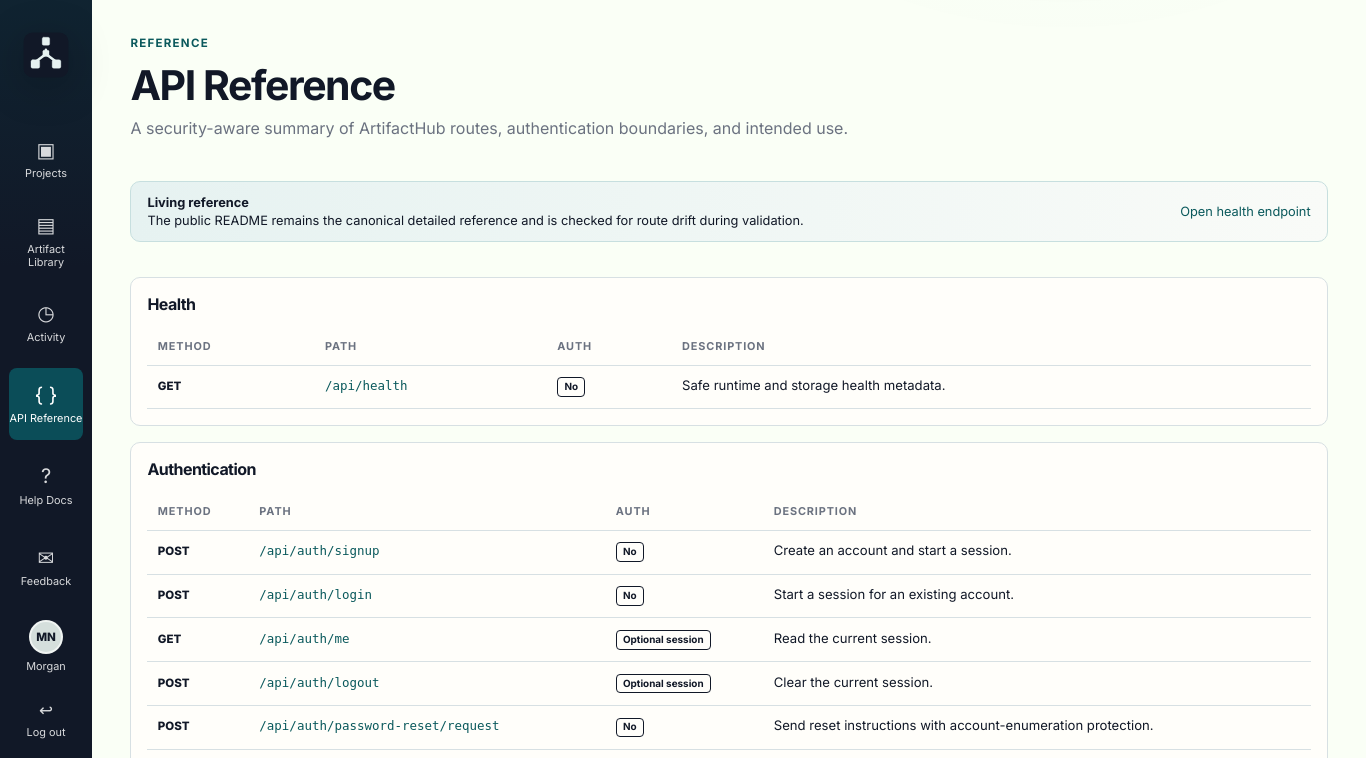
Test: React application shell › shows reference, help, and feedback rail destinations
The image size is (1366, 758).
Expected: the heading "API Reference" is shown, [130, 60, 395, 110]
Expected: the link "{ } API Reference" is shown, [9, 368, 83, 440]
Step 1. Click the link "? Help Docs" → x=46, y=486, box [19, 464, 72, 507]
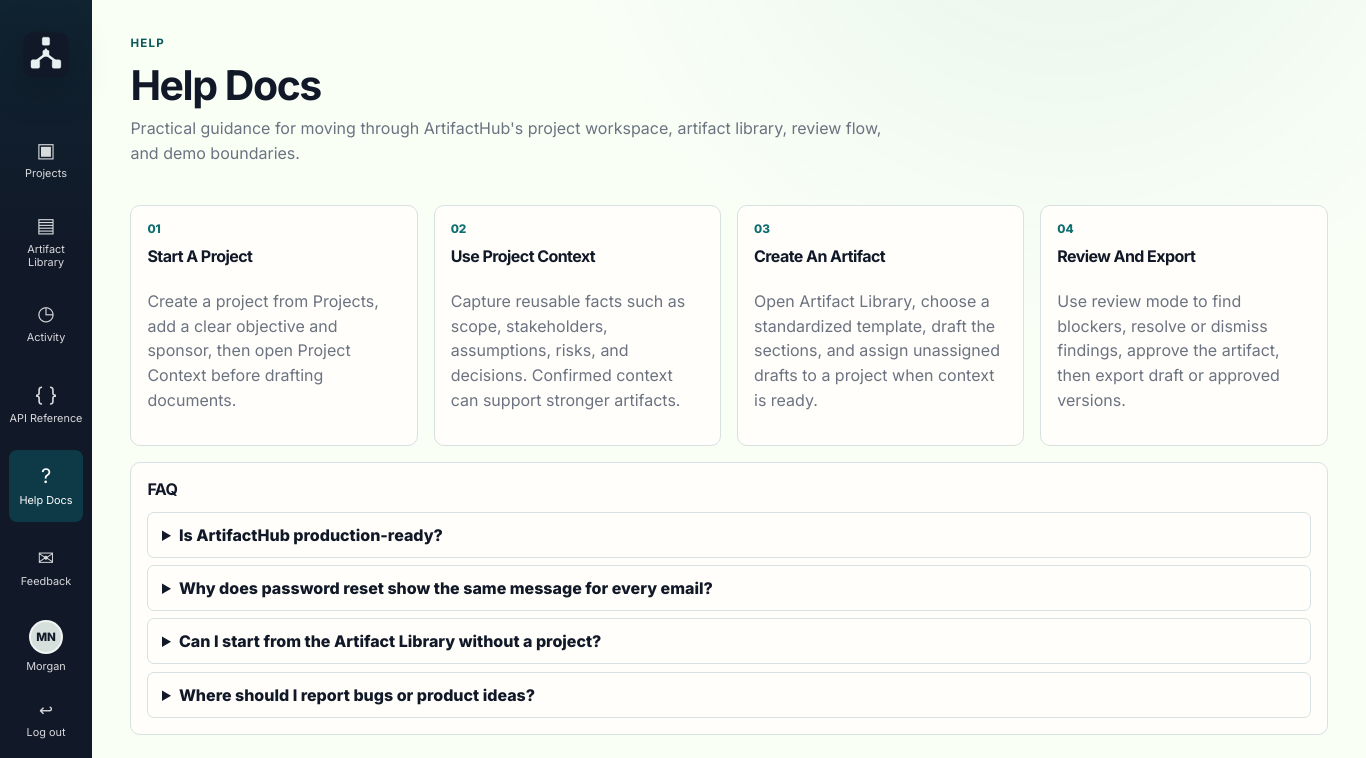
Result: the heading "Help Docs" is shown at [130, 60, 321, 110]
Step 2. Click the link "✉ Feedback" → x=46, y=567, box [21, 546, 71, 588]
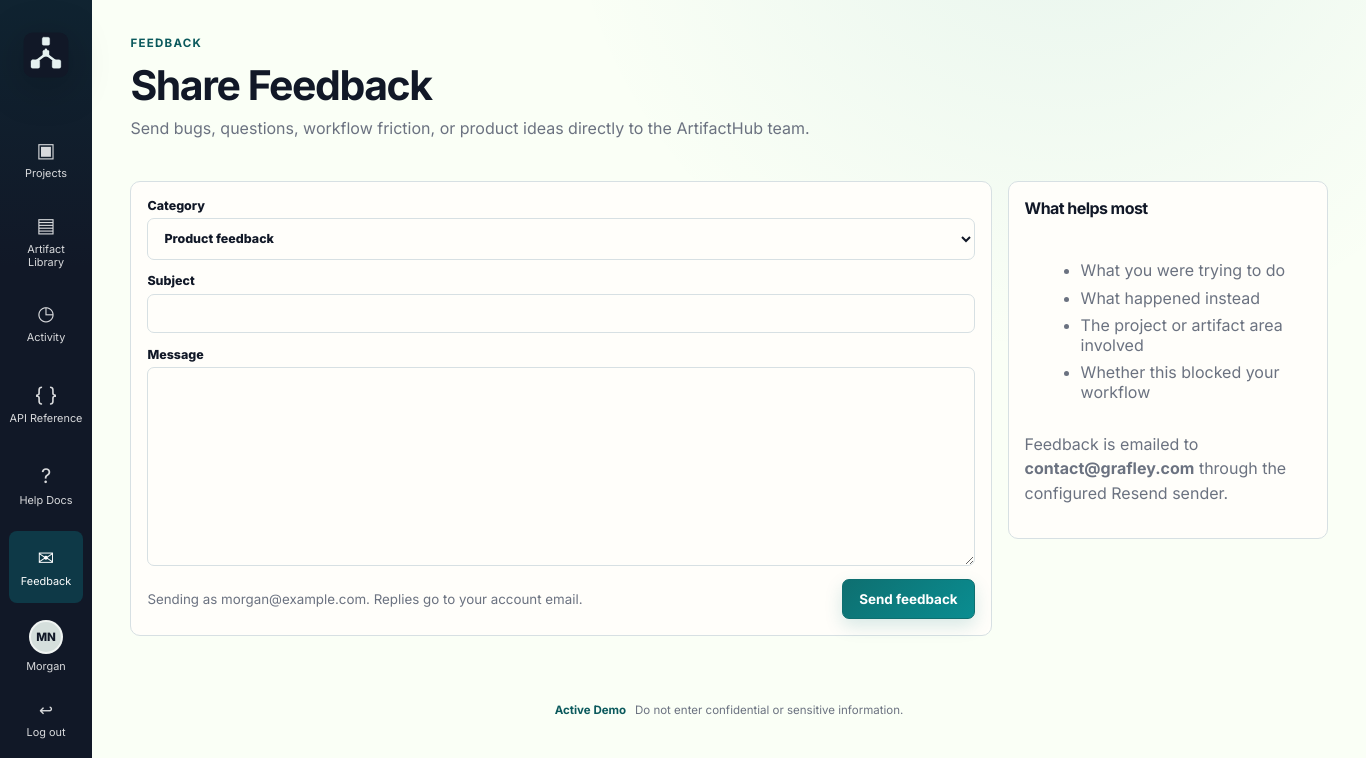
Result: the heading "Share Feedback" is shown at [130, 60, 432, 110]
Step 3. Select "Bug report" in the dropdown labelled "Category" → x=561, y=239, box [147, 218, 975, 260]
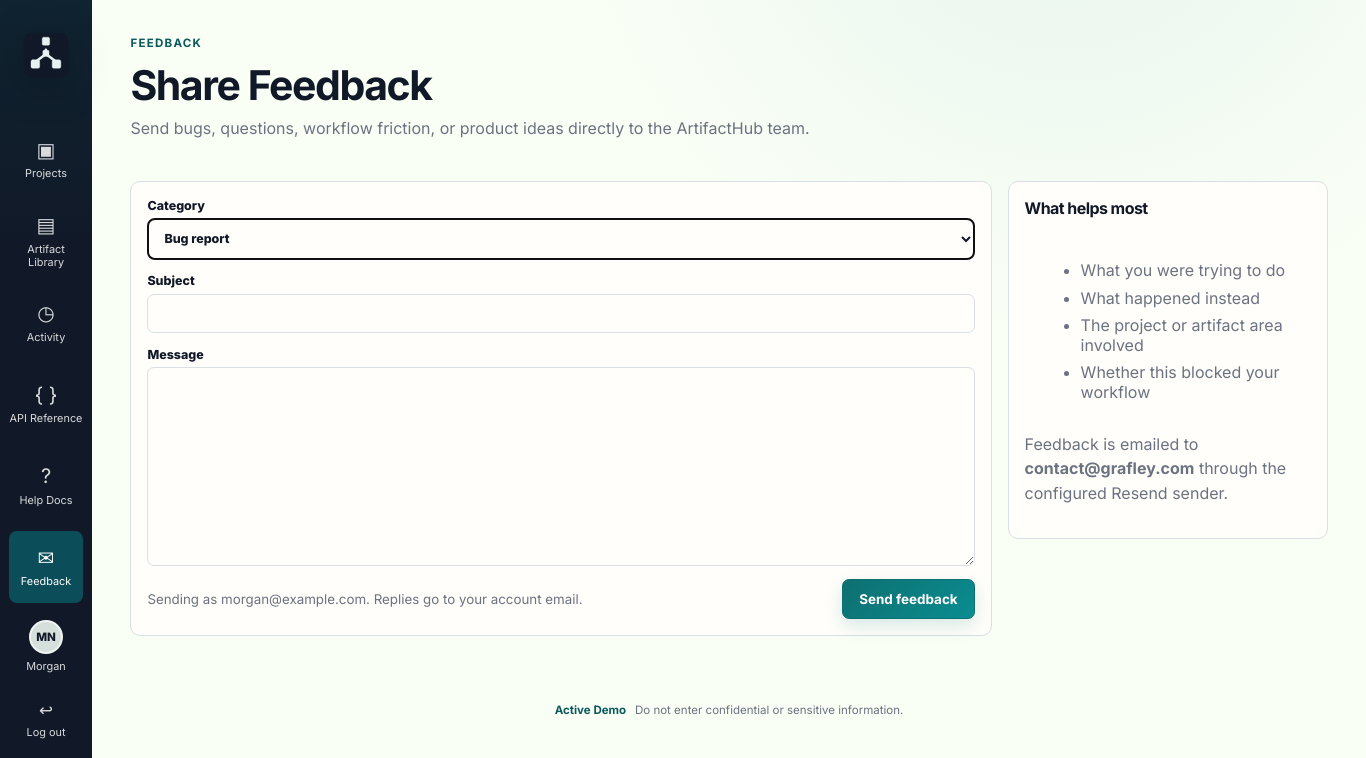
Step 4. Type "Navigation feedback" into the field labelled "Subject" → x=561, y=314, box [147, 294, 975, 333]
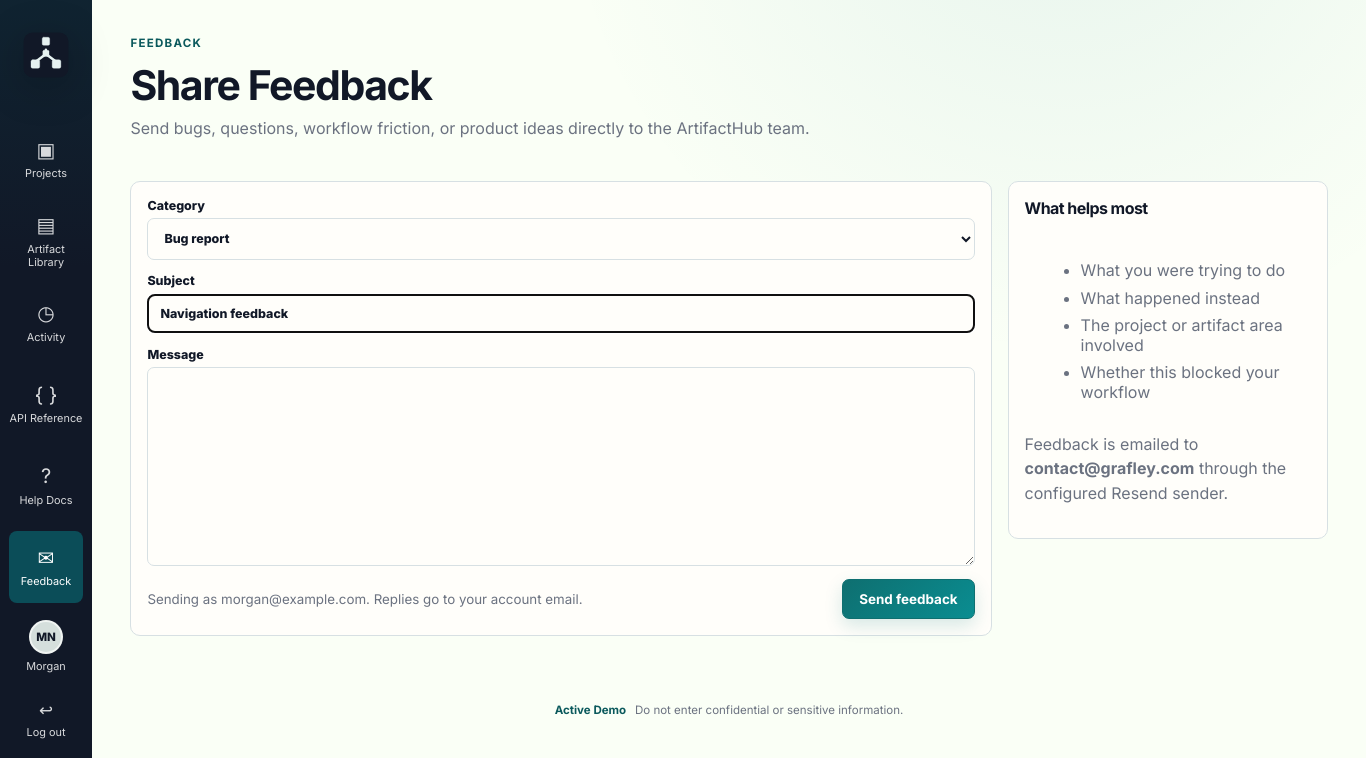
Step 5. Type "The new feedback form is reachable." into the text box labelled "Message" → x=561, y=466, box [147, 367, 975, 566]
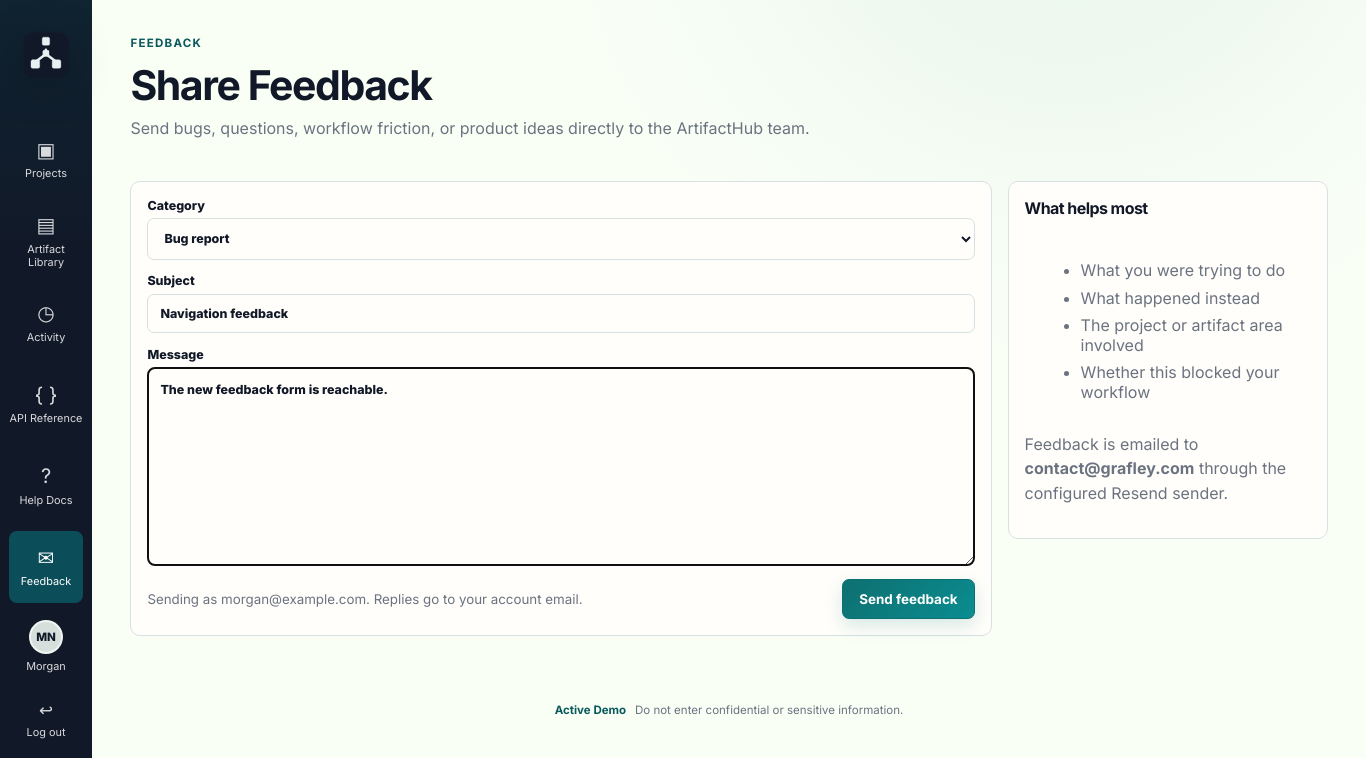
Step 6. Click the button "Send feedback" → x=908, y=599, box [842, 579, 975, 619]
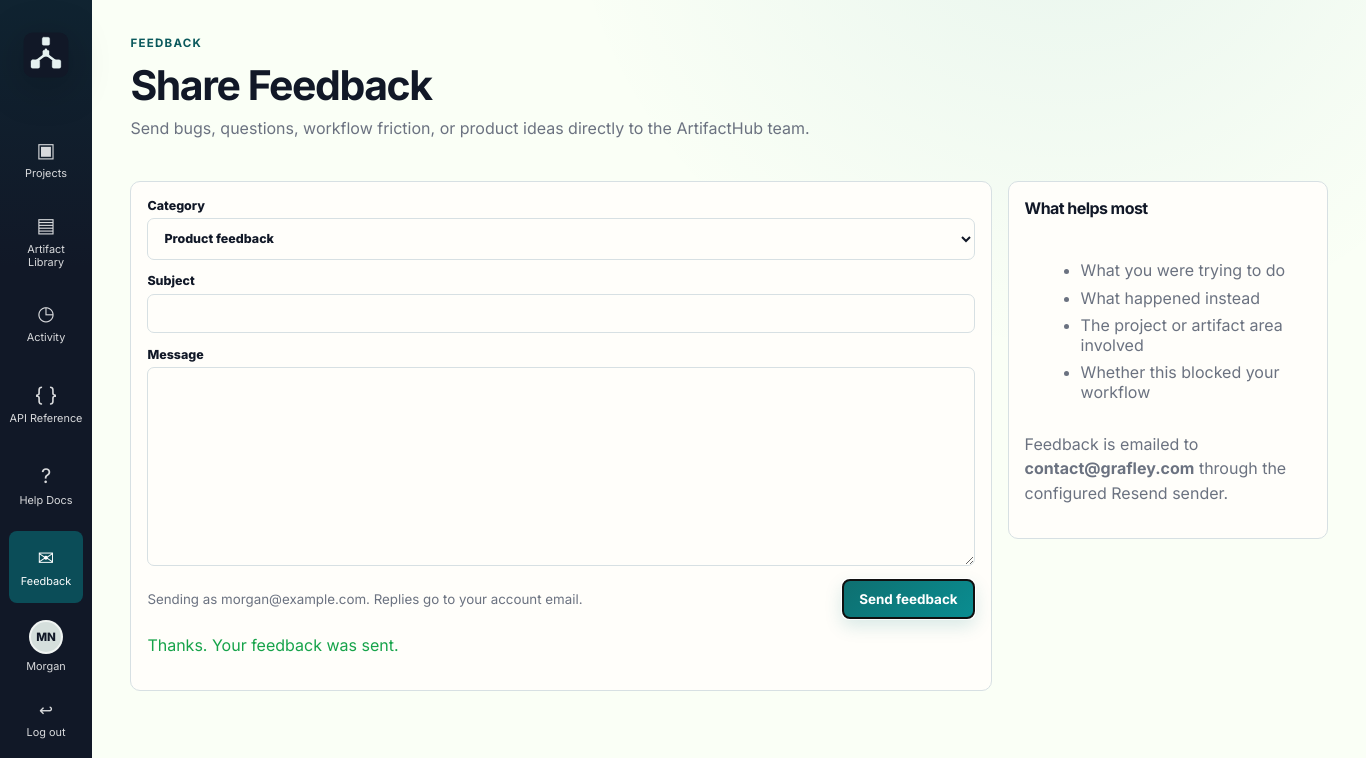
Result: the text "Thanks. Your feedback was sent." is shown at [147, 635, 398, 655]
